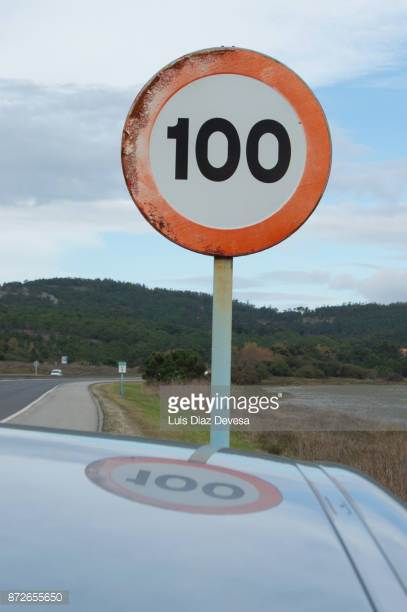Speed_limit_100km: (117, 44, 334, 258)
